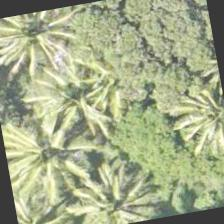Kelapa_Sawit: (18, 47, 122, 151), (0, 107, 97, 210), (59, 150, 161, 223), (0, 5, 82, 80), (170, 63, 223, 162), (12, 178, 80, 223)
